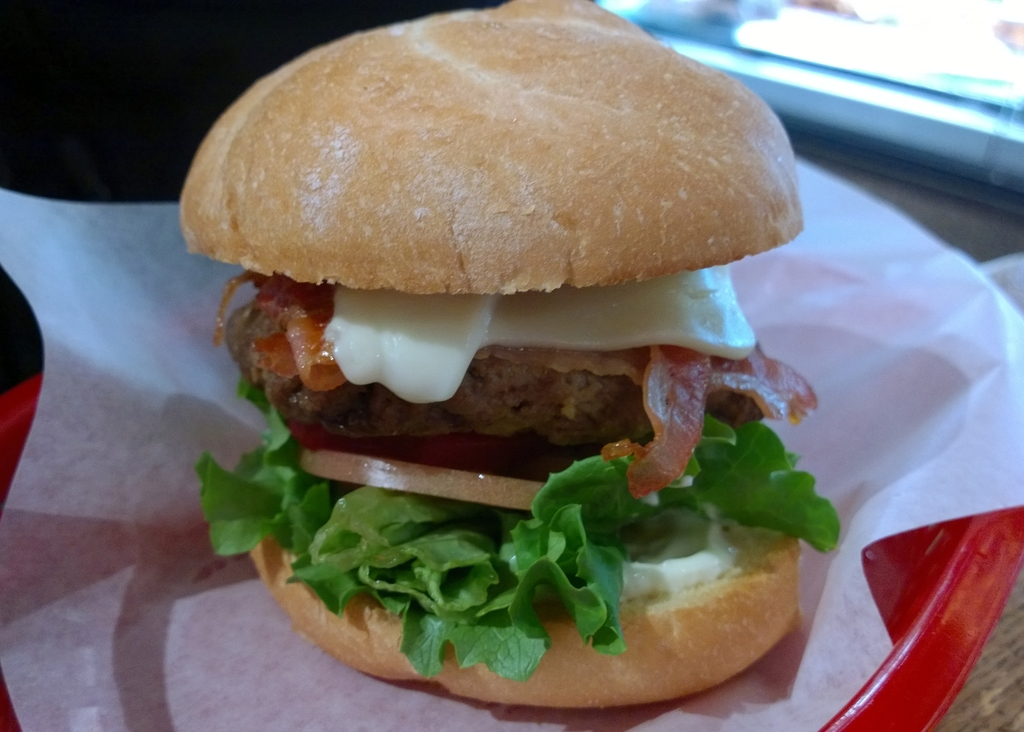Hamburger: (172, 0, 843, 709)
